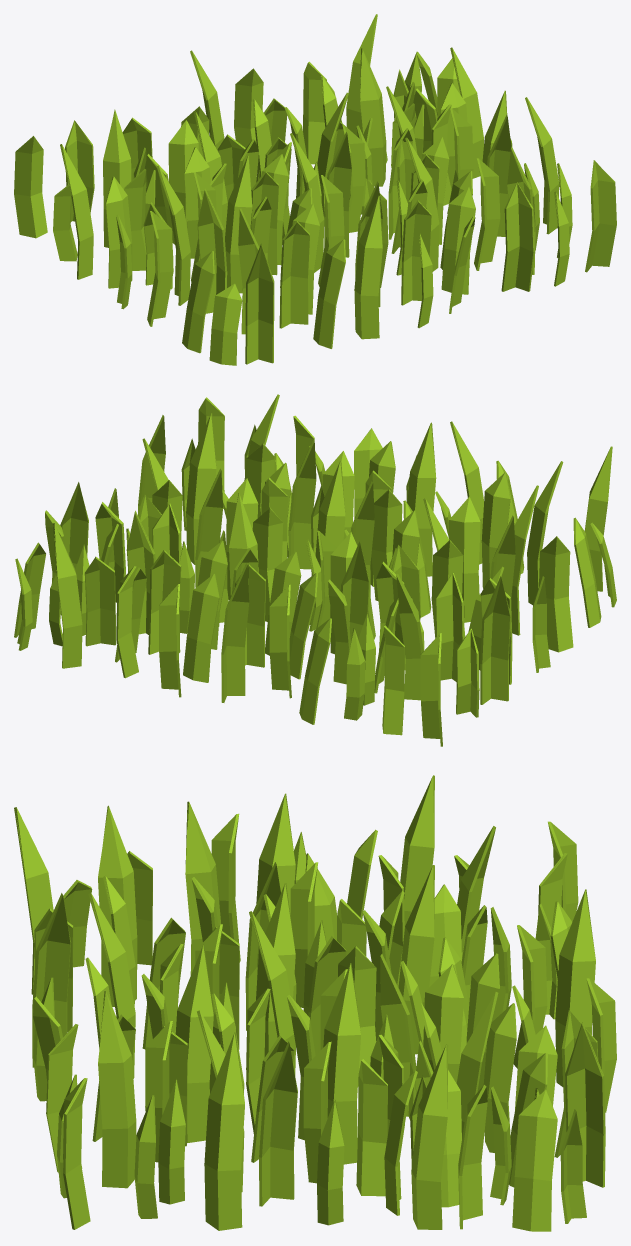
The model's file is GrassPatchMedium.fbx.
The picture shows the model from 3 angles, top to bottom: view 1: azimuth 30°, elevation 25°; view 2: azimuth 150°, elevation 25°; view 3: azimuth 270°, elevation 25°; orthographic projection. The views are drawn at different scales.
Visible parts, largest first — view 1: GrassPatchMedium; view 2: GrassPatchMedium; view 3: GrassPatchMedium.
Part boxes in pixels (<box>): GrassPatchMedium: <box>14,14,616,365</box>; GrassPatchMedium: <box>14,394,616,746</box>; GrassPatchMedium: <box>14,775,616,1231</box>.
Size of the model in its own units: 1.28 by 0.402 by 1.16.
